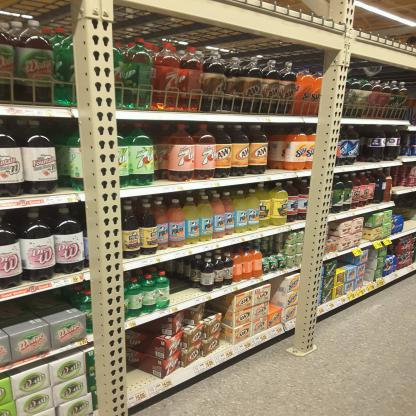Void: (124, 329, 155, 382), (167, 261, 194, 297), (270, 130, 280, 168), (405, 198, 415, 227)
